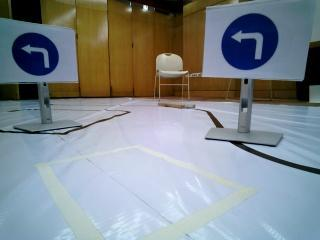left: (209, 10, 297, 74), (2, 23, 78, 78)
